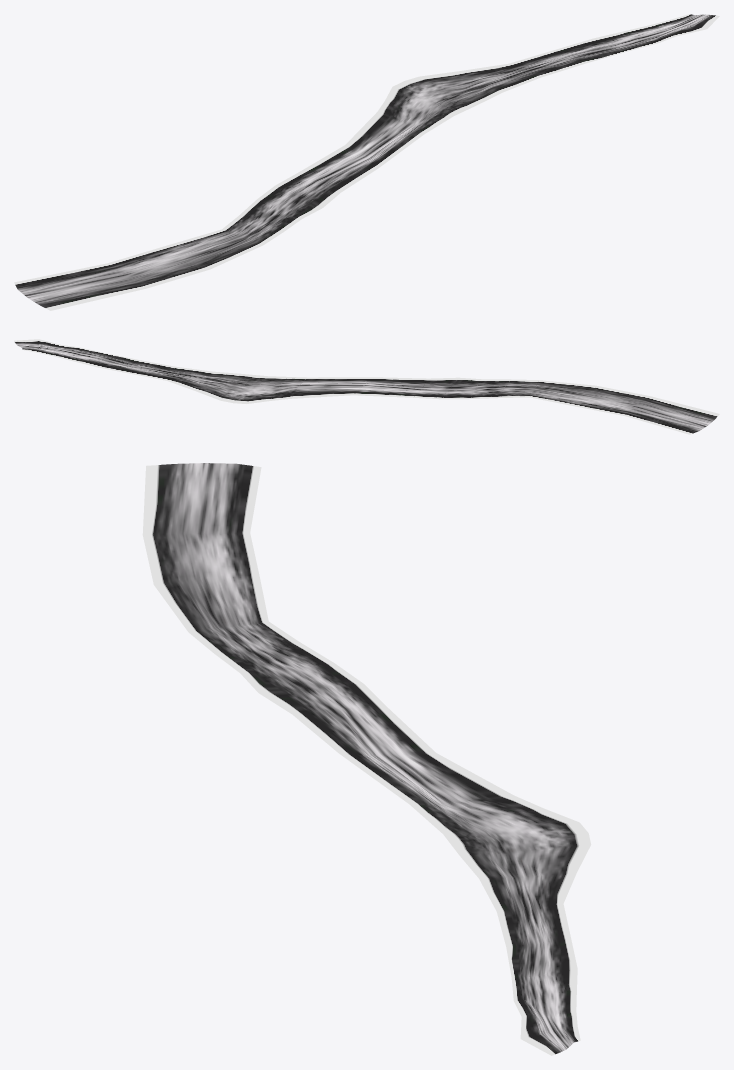
File: pubuC.FBX
3 views of the same model, one above another, from view 1: azimuth 30°, elevation 25°; view 2: azimuth 150°, elevation 25°; view 3: azimuth 270°, elevation 25° (orthographic). The views are drawn at different scales.
Parts seen in each view (by area): view 1: pubuC; view 2: pubuC; view 3: pubuC.
Boxes of the visible parts, x1,y1,x2,y2 form: pubuC: [14, 14, 719, 310]; pubuC: [14, 339, 719, 434]; pubuC: [142, 463, 591, 1055].
Bounding box in the file's own units: 702 × 6.39e-14 × 224.
1 material, 1 textured.
